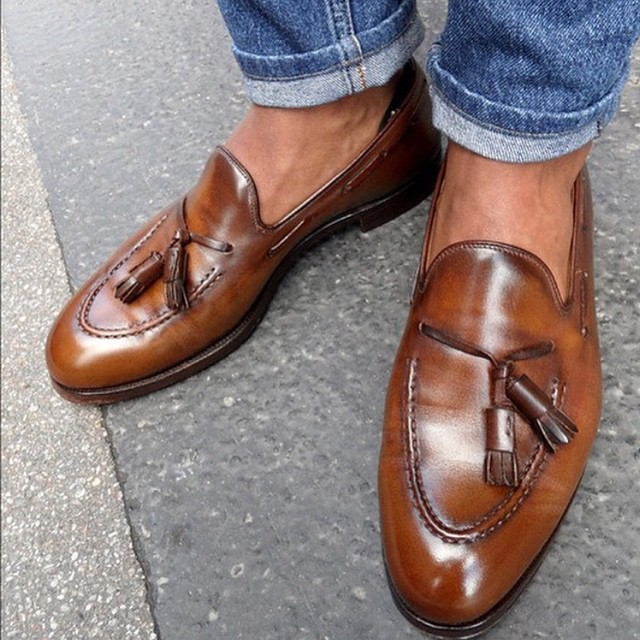sneaker: (24, 48, 451, 441), (351, 73, 619, 640)
